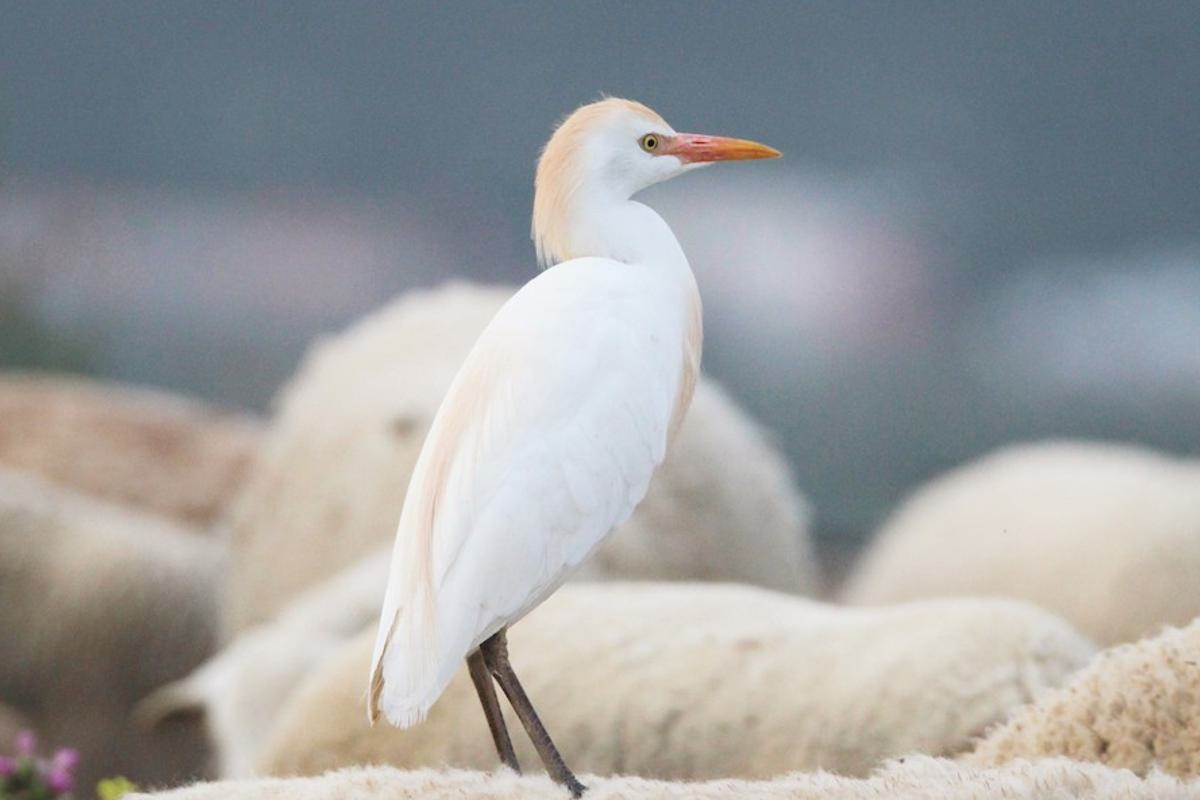egret: (405, 62, 780, 800)
